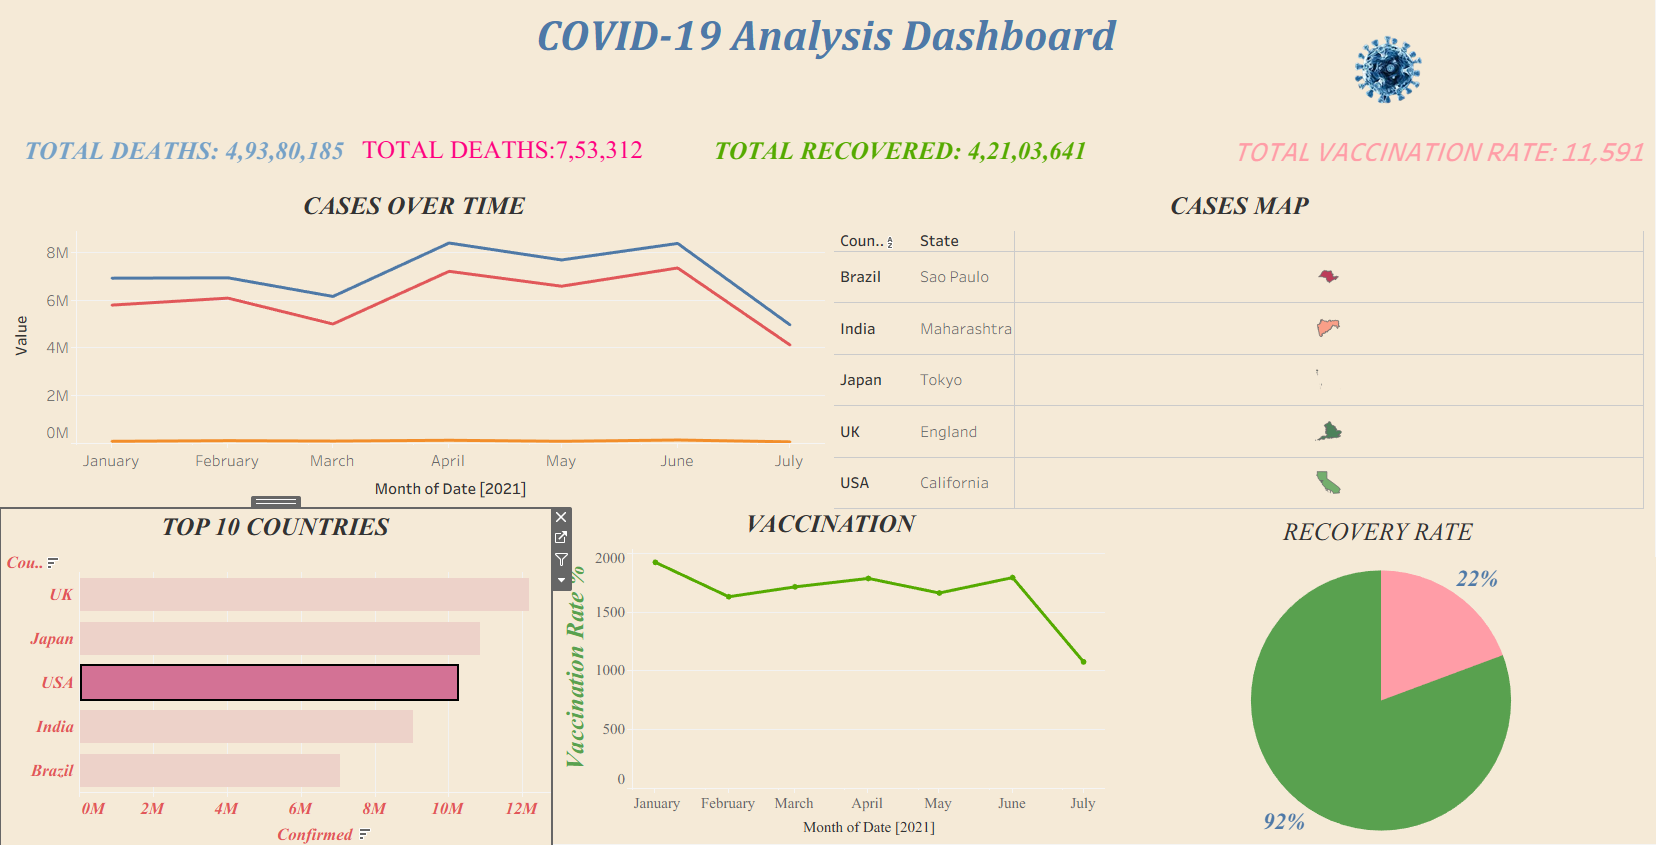

Layout of this report page (visuals, bound fields, positions):
{"tool":"tableau","page":{"name":"Dashboard 1","canvas":[1000,1000],"units":"permille","ordinal":0},"visuals":[{"type":"title","box":[4.8,9.4,990.3,118.7]},{"type":"image","param":"Image/OIP__1_-removebg-preview.png","box":[767.1,22.3,202.2,129.3]},{"type":"worksheet","title":"SHEET 4","mark":"Automatic","box":[665.2,139.3,332.9,94.1]},{"type":"worksheet","title":"SHEET 1","mark":"Automatic","box":[1.2,140.5,210.7,87.8]},{"type":"worksheet","title":"SHEET 2","mark":"Automatic","box":[210.7,141.8,189.8,84.1]},{"type":"worksheet","title":"SHEET 3","mark":"Automatic","box":[393.1,141.8,418.3,85.3]},{"type":"worksheet","title":"CASES OVER TIME","mark":"Line","cols":["Date"],"box":[3.1,229.6,496.3,373.9]},{"type":"worksheet","title":"CASES MAP","mark":"Multipolygon","rows":["Country","State"],"box":[504.3,229.6,488.9,377.7]},{"type":"worksheet","title":"VACCINATION","mark":"Line","rows":["Vaccination_Rate_%"],"cols":["Date"],"box":[335.4,602.3,332.9,396.5]},{"type":"worksheet","title":"RECOVERY RATE ","mark":"Pie","box":[668.3,612.3,332.9,387.7]}]}

Visuals, with their boxes on the dashboard's canvas, which has no fixed pixel size, in thousandths of its width and height (x1, y1, x2, y2). These are canvas units, not pixel positions in the 1656x845 screenshot, which may show the page scaled, cropped or inside an application window:
title: box(5, 9, 995, 128)
image: box(767, 22, 969, 152)
"SHEET 4" worksheet: box(665, 139, 998, 233)
"SHEET 1" worksheet: box(1, 140, 212, 228)
"SHEET 2" worksheet: box(211, 142, 400, 226)
"SHEET 3" worksheet: box(393, 142, 811, 227)
"CASES OVER TIME" worksheet (Line marks): box(3, 230, 499, 604)
"CASES MAP" worksheet (Multipolygon marks): box(504, 230, 993, 607)
"VACCINATION" worksheet (Line marks): box(335, 602, 668, 999)
"RECOVERY RATE " worksheet (Pie marks): box(668, 612, 1001, 1000)
